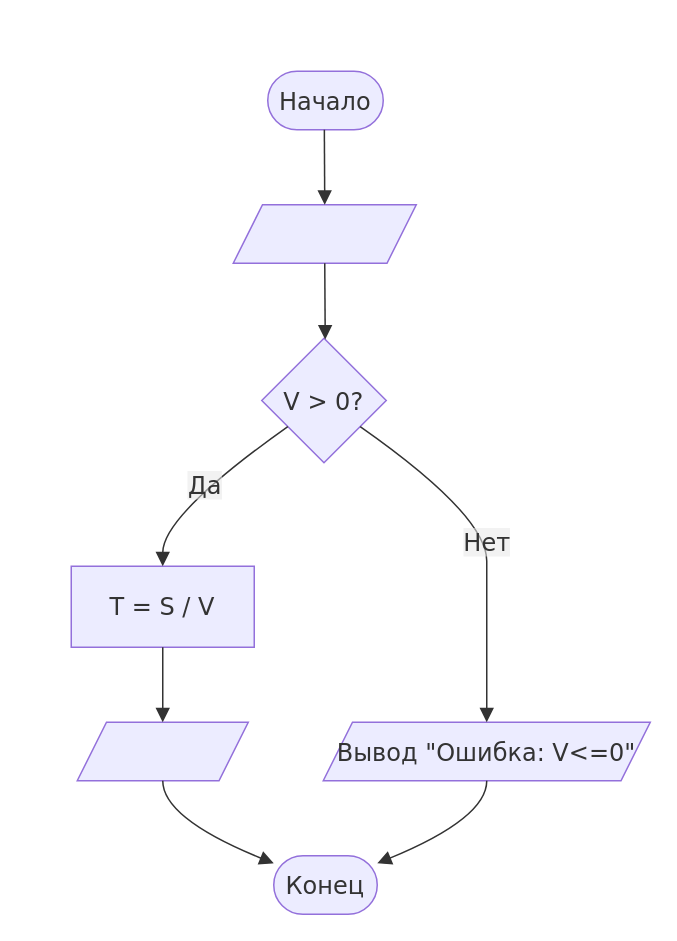
Image size: 677x941. Some labels were removed from this diagram. The centre of each missing label's shape, as x and y in pixels:
Ввод S, V: point (324, 233)
Вывод T: point (162, 751)
